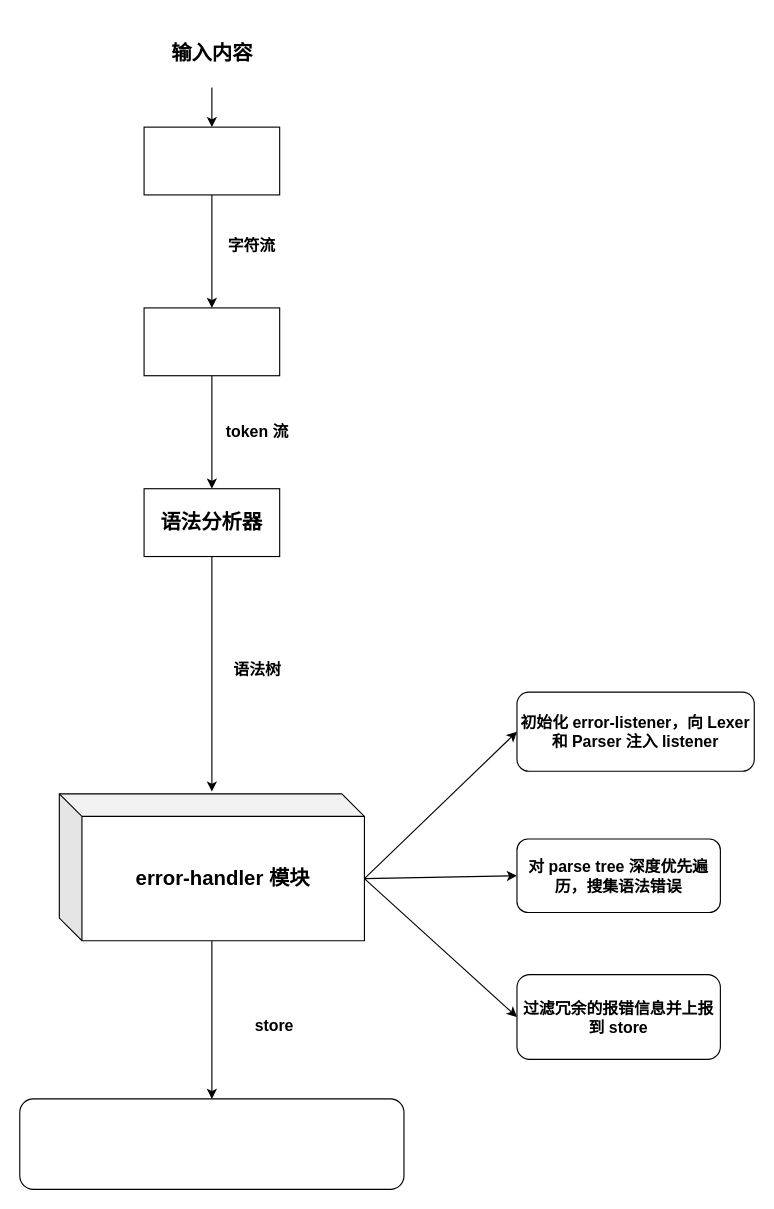
The diagram is 774 pixels wide and 1209 high, and some of its shapes have lost their labels. Here are the shapes that lost their labels. From the top down, the centre of each, then its label:
At (x=211, y=160): "Antlr4 入口".
At (x=211, y=341): "词法分析器".
At (x=211, y=1143): "监听 monaco.onDidChangeModelContent".
